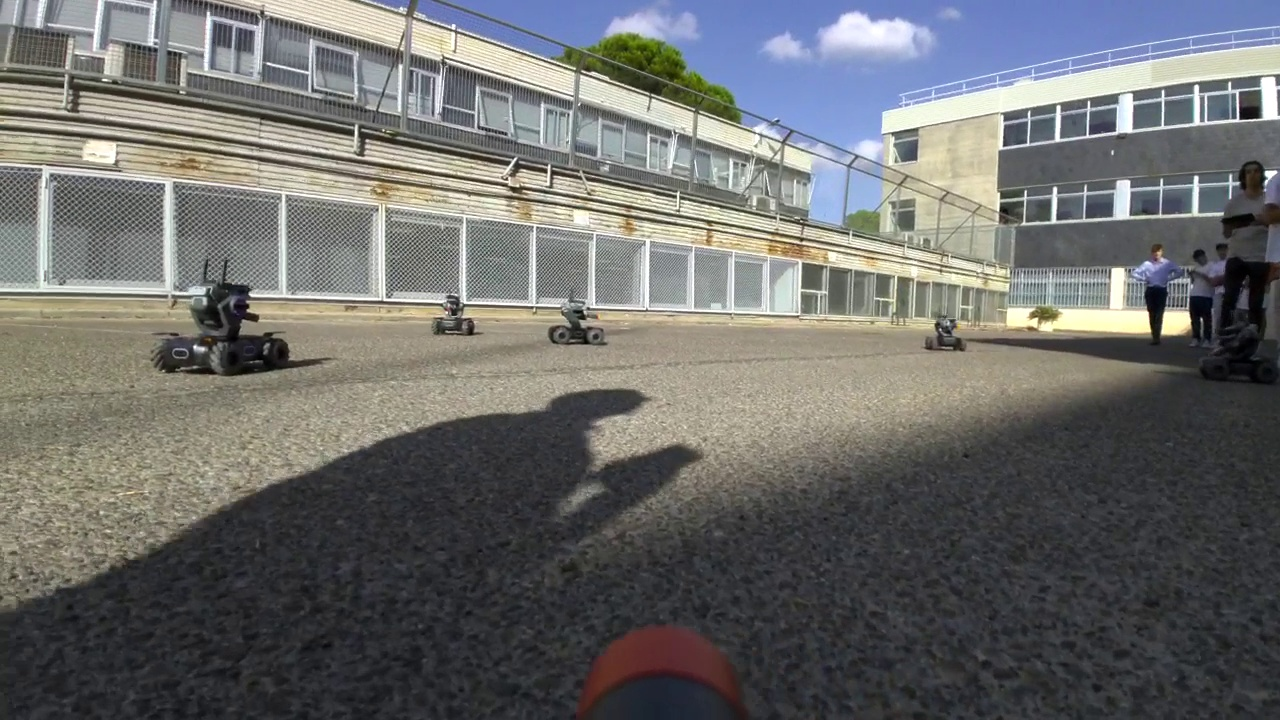robot: (154, 252, 293, 375), (1200, 314, 1280, 387), (549, 290, 608, 347), (430, 292, 477, 341), (925, 311, 969, 353)
